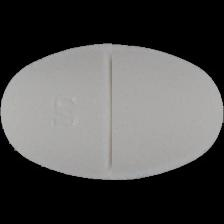67253-900: (0, 0, 224, 224)
